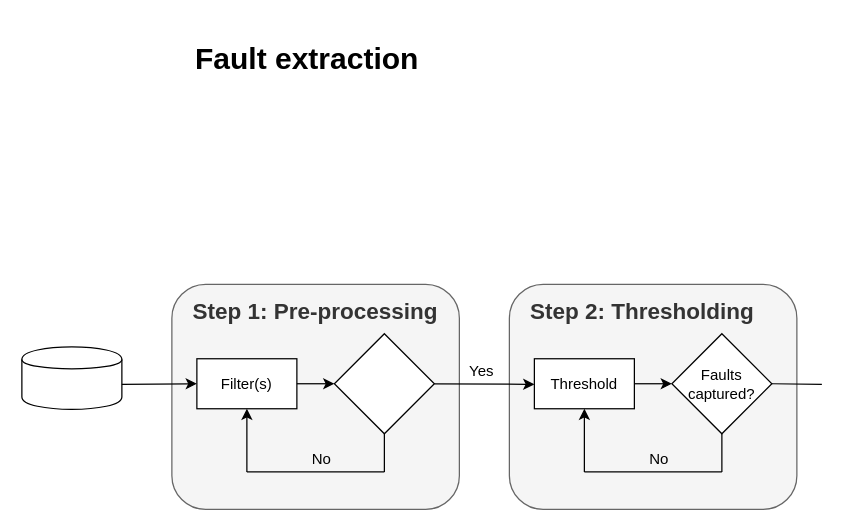
Image size: 845x531. Some labels were removed from this diagram. Each missing label, with the box of its shape:
Data: (21, 346, 122, 409)
Faults visible?: (333, 332, 434, 434)
